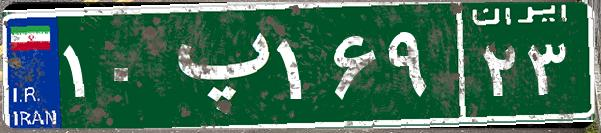0: (110, 28, 158, 105)
1: (273, 28, 330, 110), (57, 26, 110, 107)
2: (475, 38, 525, 113)
3: (525, 38, 570, 115)
6: (330, 28, 385, 110)
9: (385, 28, 445, 110)
پ: (158, 15, 273, 115)
